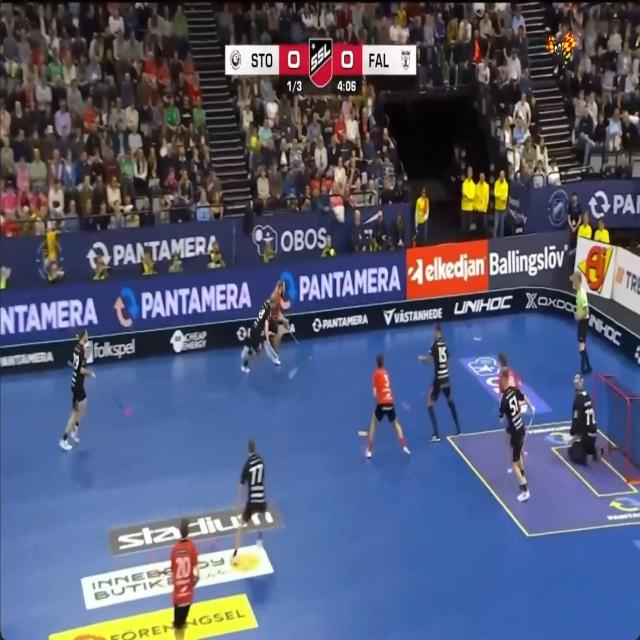player: (418, 323, 460, 442), (366, 354, 409, 458), (59, 329, 95, 450), (500, 372, 532, 501), (170, 517, 198, 639), (241, 295, 280, 371), (568, 374, 598, 463), (237, 439, 267, 525), (270, 280, 289, 352), (498, 352, 520, 393), (231, 526, 242, 563), (506, 437, 512, 472), (257, 531, 261, 545), (523, 447, 526, 453)
stick: (264, 337, 277, 360), (111, 394, 123, 410), (527, 408, 534, 428), (288, 331, 298, 344), (67, 360, 73, 366)
